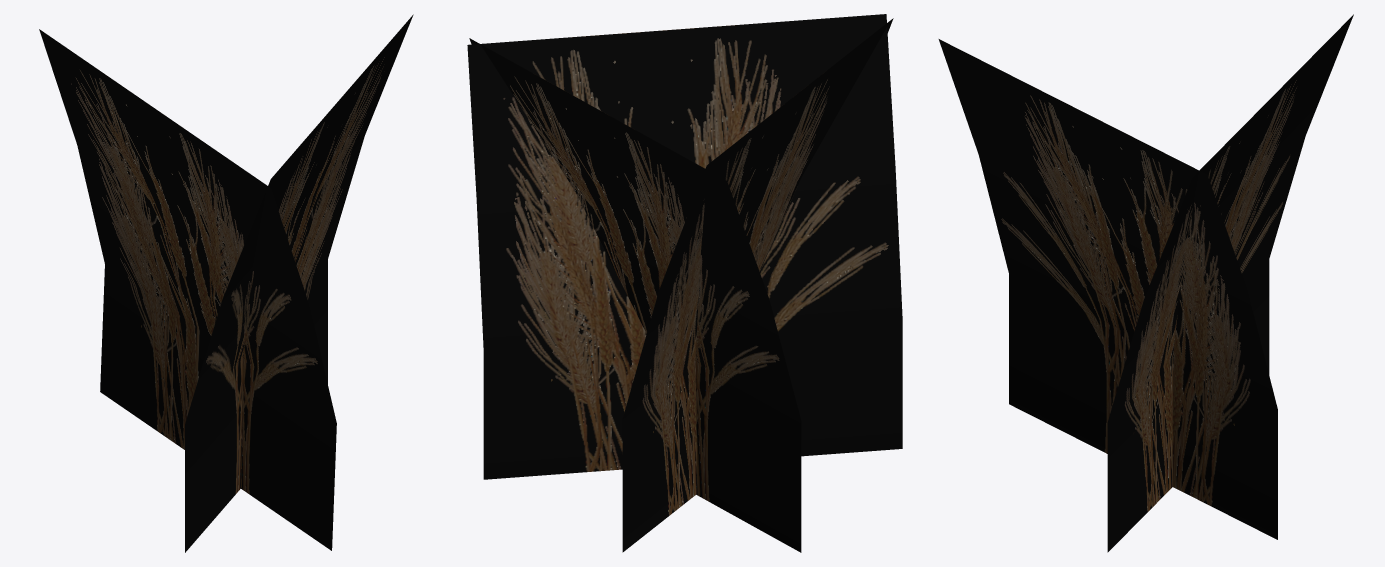
Rendered from wheat_1_1.dae.
3 views of the same model, side by side, from view 1: azimuth 30°, elevation 25°; view 2: azimuth 150°, elevation 25°; view 3: azimuth 270°, elevation 25° (orthographic). The views are drawn at different scales.
Visible parts, largest first — view 1: wheat_1_1; view 2: wheat_1_1; view 3: wheat_1_1.
Boxes of the visible parts, x1,y1,x2,y2 form: wheat_1_1: (39,14,413,552); wheat_1_1: (467,14,902,552); wheat_1_1: (938,14,1353,552).
Size of the model in its own units: 1.18 by 1.22 by 1.25.
1 material, 1 textured.
